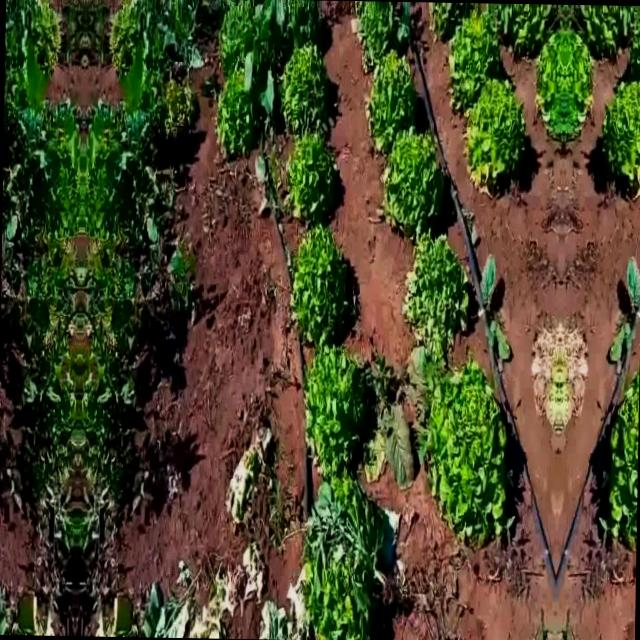healthy: (419, 366, 520, 545), (302, 474, 392, 640), (402, 232, 477, 358), (286, 224, 357, 354), (304, 343, 371, 468), (595, 368, 639, 546), (378, 127, 446, 230), (462, 78, 526, 182), (280, 125, 340, 223), (445, 19, 502, 100), (366, 55, 416, 143), (600, 79, 640, 183), (216, 70, 261, 155), (276, 46, 326, 122), (217, 0, 270, 71), (530, 33, 564, 134), (564, 33, 598, 134), (627, 21, 640, 102)
